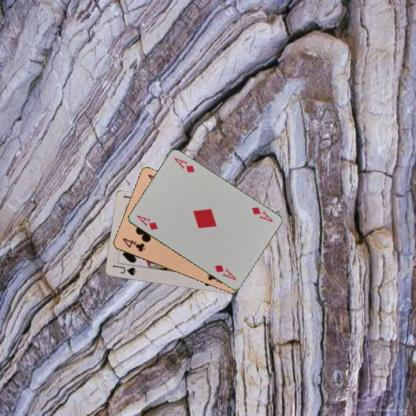4c: (120, 235, 146, 253)
Ad: (248, 204, 274, 224), (134, 213, 159, 231)
Js: (110, 262, 137, 277)
